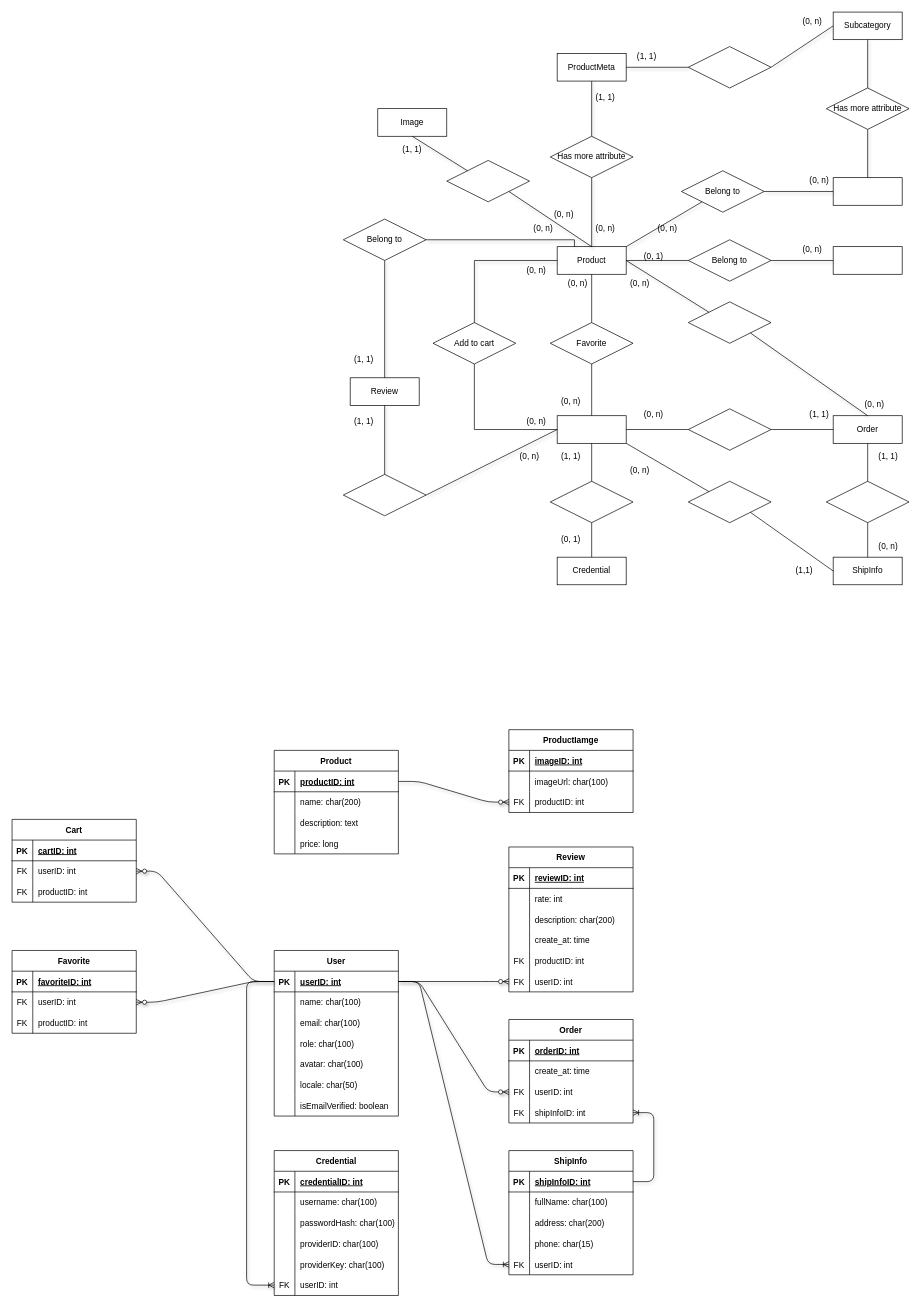
Some shapes in this 921 by 1308 pixel diagram are drawn without their labels. Here are the shapes that lost their labels. From the top down, the centre of each, then its label:
At point (729, 67): "Has subdata".
At point (488, 181): "Have image".
At point (867, 191): "Category".
At point (867, 260): "Branch".
At point (729, 322): "Has in".
At point (591, 429): "Account".
At point (729, 429): "Buy".
At point (384, 495): "Give review".
At point (591, 502): "Login with".
At point (729, 502): "Have info".
At point (867, 502): "Deliver to".
